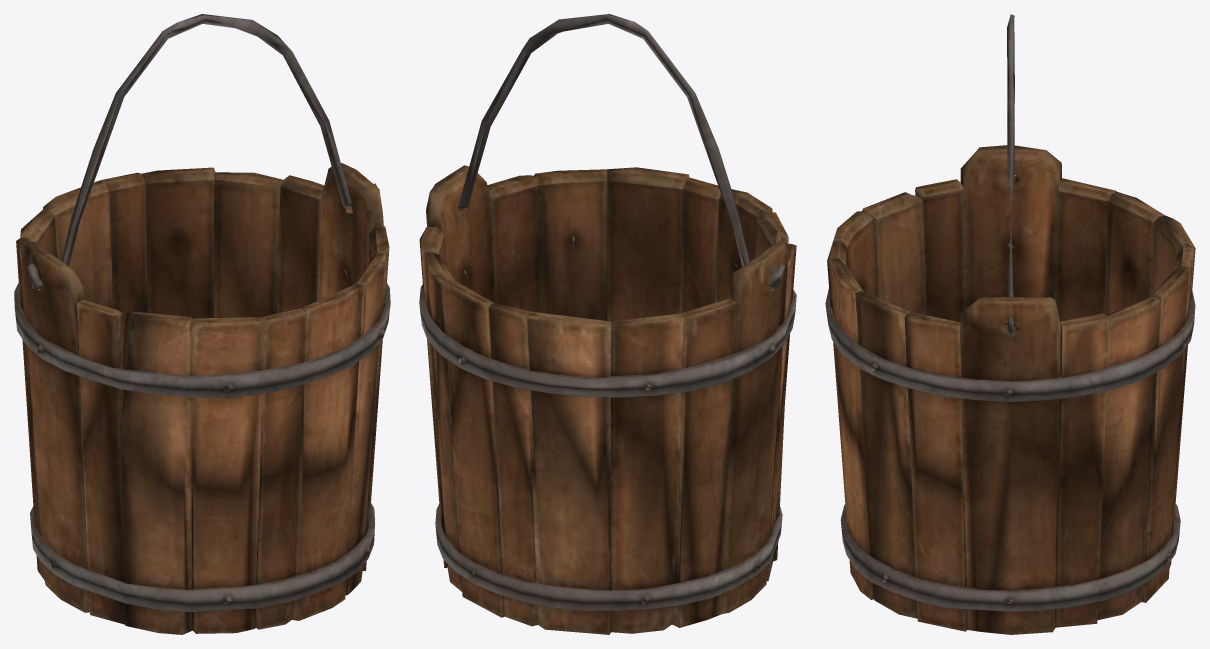
The model's file is wooden_bucket_01.glb.
3 views of the same model, side by side, from view 1: azimuth 30°, elevation 25°; view 2: azimuth 150°, elevation 25°; view 3: azimuth 270°, elevation 25° (orthographic).
Visible parts, largest first — view 1: wooden_bucket_01; view 2: wooden_bucket_01; view 3: wooden_bucket_01.
Boxes of the visible parts, box(x1,y1,x2,y2) form: wooden_bucket_01: box(14, 14, 390, 634); wooden_bucket_01: box(419, 14, 796, 634); wooden_bucket_01: box(825, 14, 1195, 634).
Bounding box in the file's own units: 0.3663 × 0.5478 × 0.3407.
Materials: 1 (1 with a texture image).
